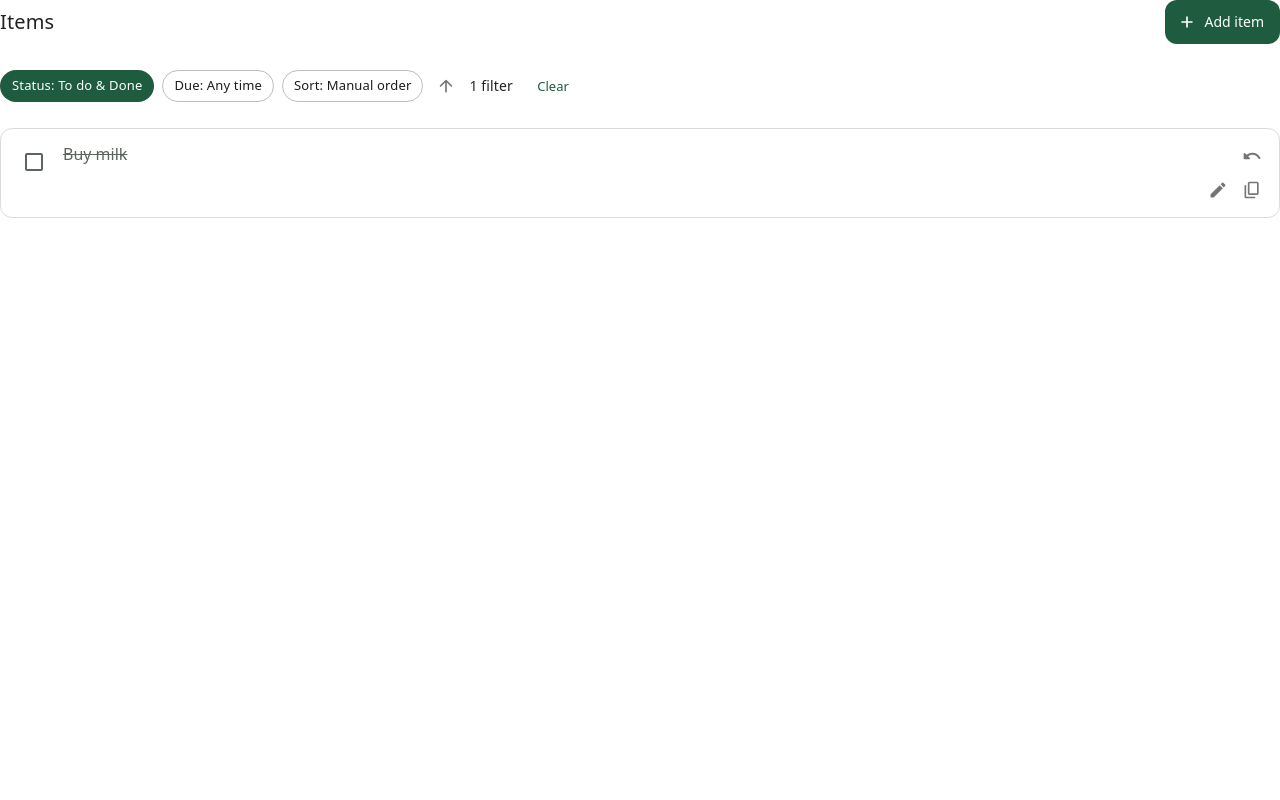
Test: ItemsSection › duplicates a finished item too
The image size is (1280, 800).
Click the button named "Duplicate Buy milk": (1252, 190) [1237,175,1267,205]
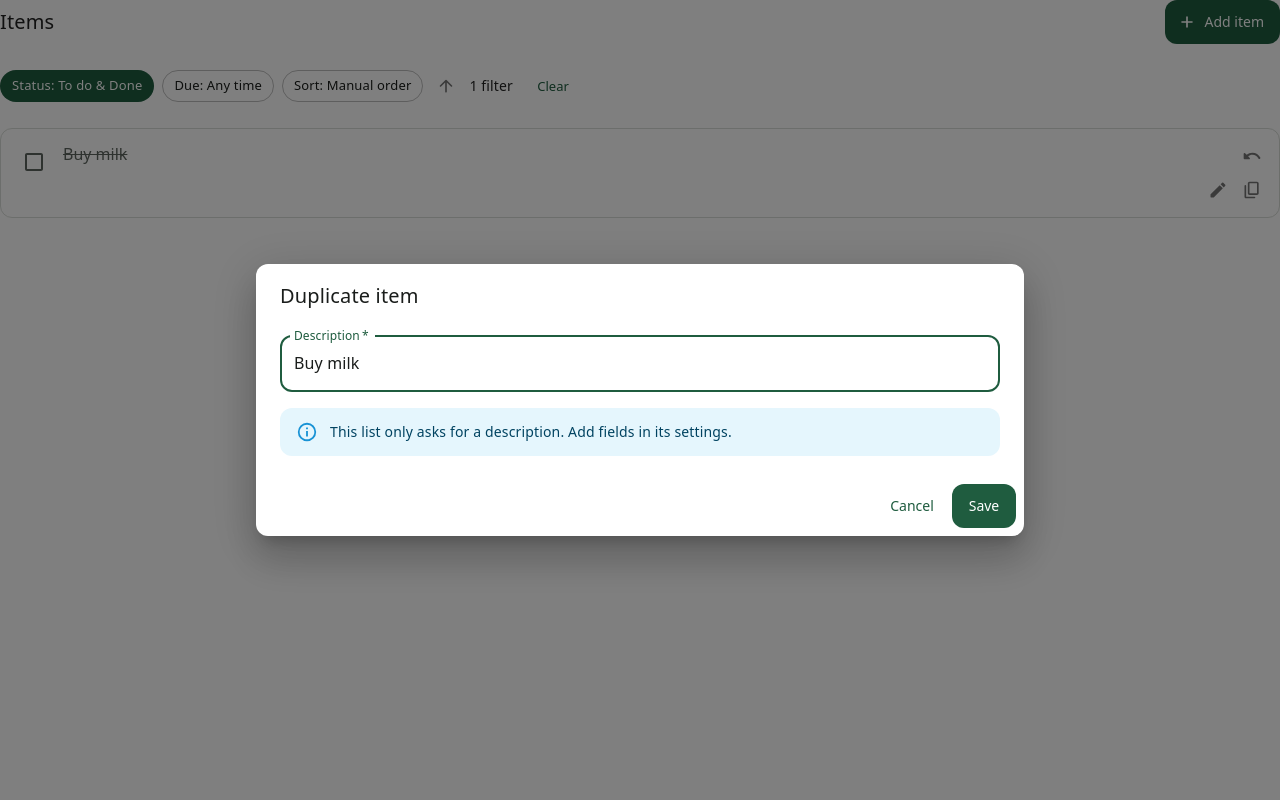
Result: the field labelled "Description" holds "Buy milk" at [280,336,1000,392]
